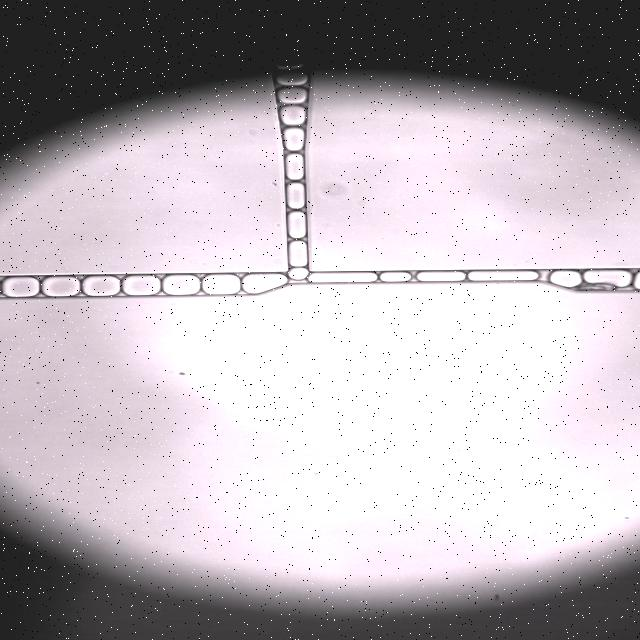L: (288, 241, 308, 281), (550, 271, 581, 288), (288, 211, 306, 239), (283, 128, 304, 151), (275, 72, 307, 87), (280, 106, 305, 125), (417, 271, 464, 281), (286, 154, 304, 180), (287, 183, 305, 209), (277, 88, 306, 104)
S: (308, 272, 413, 282), (243, 274, 287, 294), (41, 276, 80, 296), (583, 270, 631, 286), (82, 276, 120, 296), (122, 275, 160, 295), (163, 275, 200, 295), (2, 277, 38, 297), (203, 275, 240, 294), (469, 271, 537, 281)
